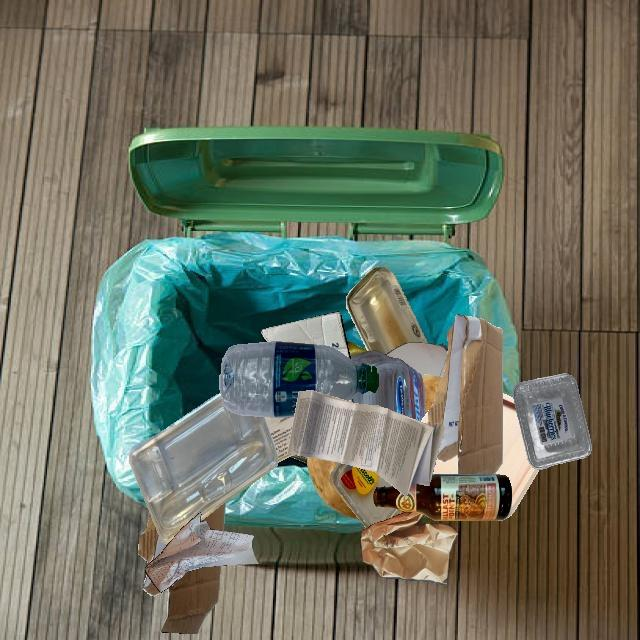biowaste: (327, 388, 439, 514), (347, 341, 368, 356)
cardboard: (428, 314, 503, 475), (150, 565, 221, 634), (261, 312, 351, 360)
combustible waste: (428, 411, 503, 459), (494, 459, 539, 519), (503, 393, 528, 461), (432, 456, 458, 476)
glass: (346, 266, 428, 355), (373, 475, 512, 521)
paper: (287, 391, 444, 496), (145, 513, 259, 592), (360, 514, 412, 580), (412, 512, 458, 584), (385, 342, 448, 378), (264, 416, 294, 463)
plastic: (130, 393, 277, 545), (219, 341, 379, 417), (513, 373, 592, 469), (347, 351, 425, 422), (330, 462, 402, 529), (288, 454, 308, 465)
